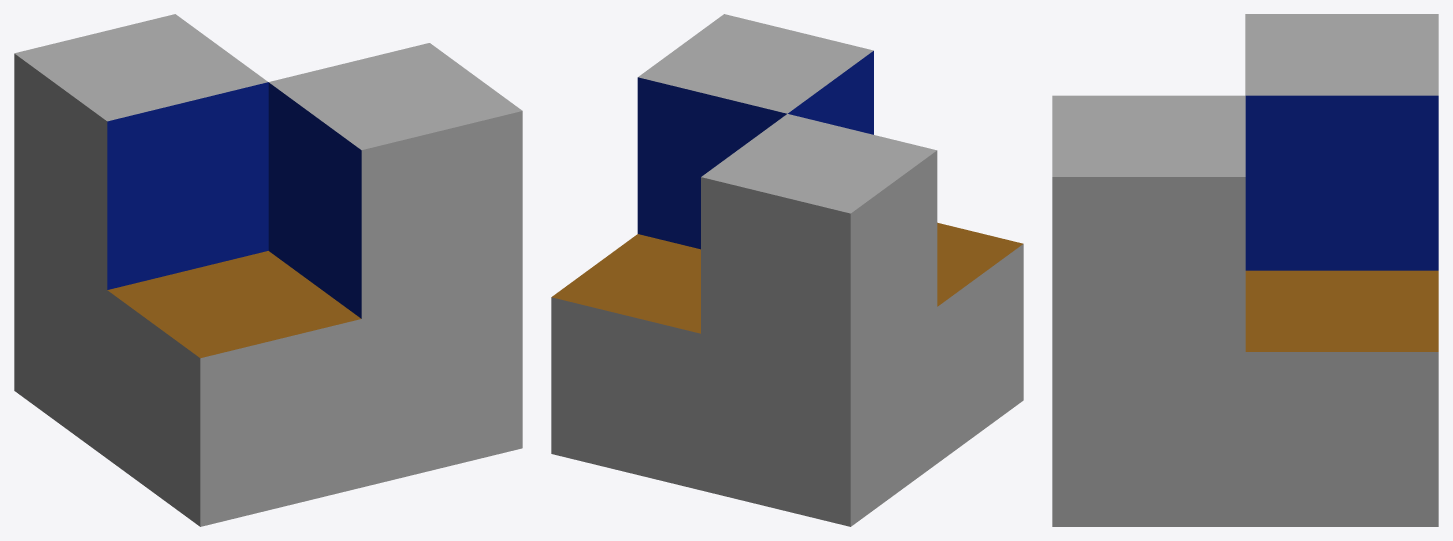
Rendered from case_95.fbx.
3 renders of one model, left to right at view 1: azimuth 30°, elevation 25°; view 2: azimuth 150°, elevation 25°; view 3: azimuth 270°, elevation 25°, orthographic. The views are drawn at different scales.
Parts seen in each view (by area): view 1: case_95; view 2: case_95; view 3: case_95.
Part boxes in pixels (x1,y1,x2,y2): case_95: (14,14,522,526); case_95: (551,14,1023,526); case_95: (1052,14,1438,526).
Size of the model in its own units: 1 by 1 by 1.
